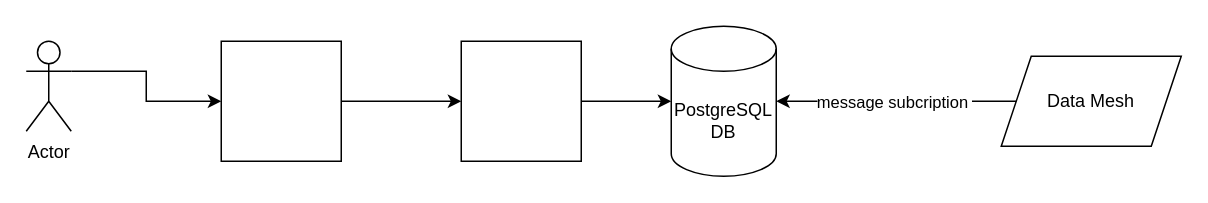
This 1208x203 diagram has some shape labels left out. Here are the shapes that lost their labels. From the top down, the centre of each, then its label:
At pixel 280 100: "CCMS Web".
At pixel 520 100: "Backend service".
